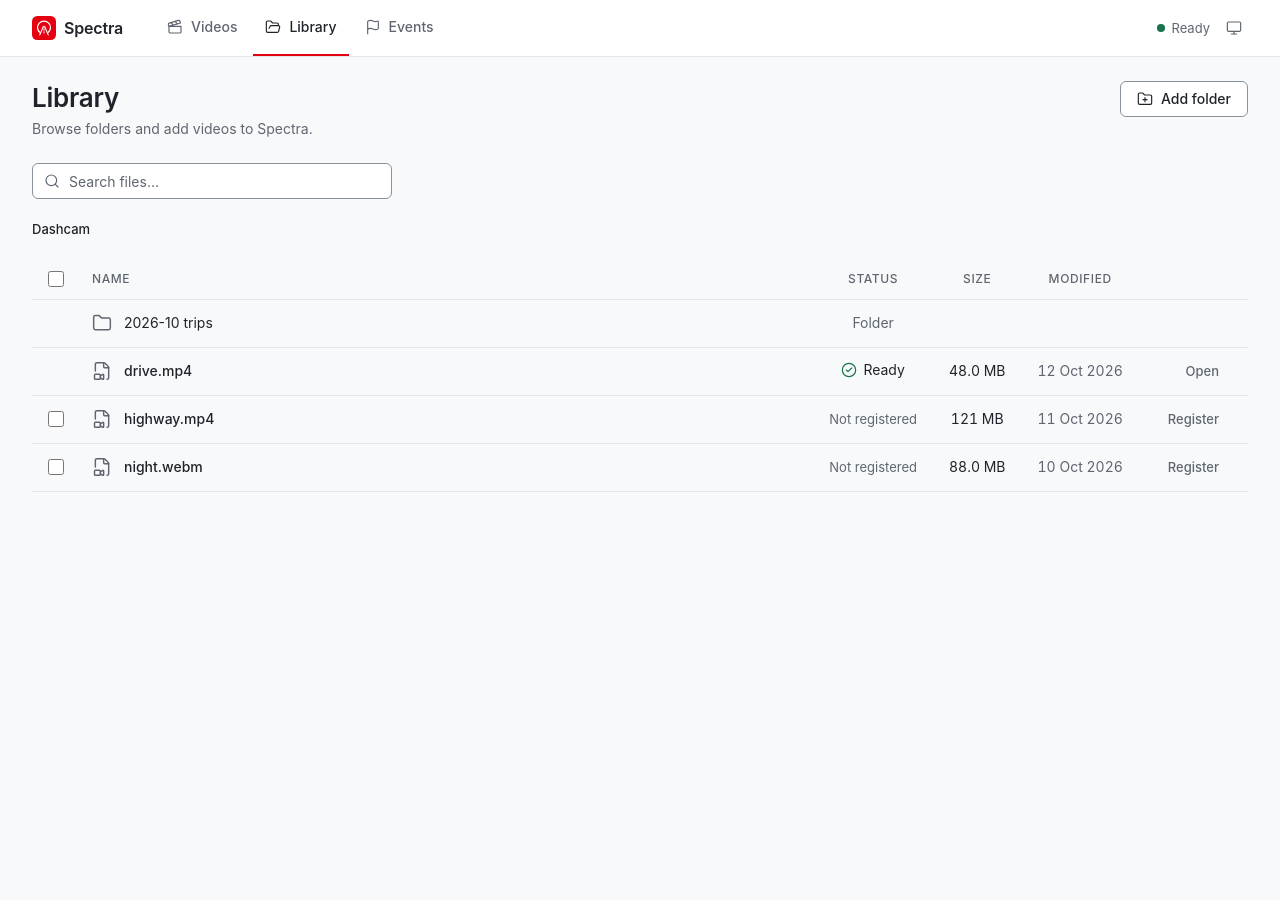
Scenario: library browsing › reports videos that could not be registered
The width and height of the screenshot is (1280, 900).
Click the button with aria-label "Register night.webm" at coordinates (1193, 467), box [1155,453,1232,481]
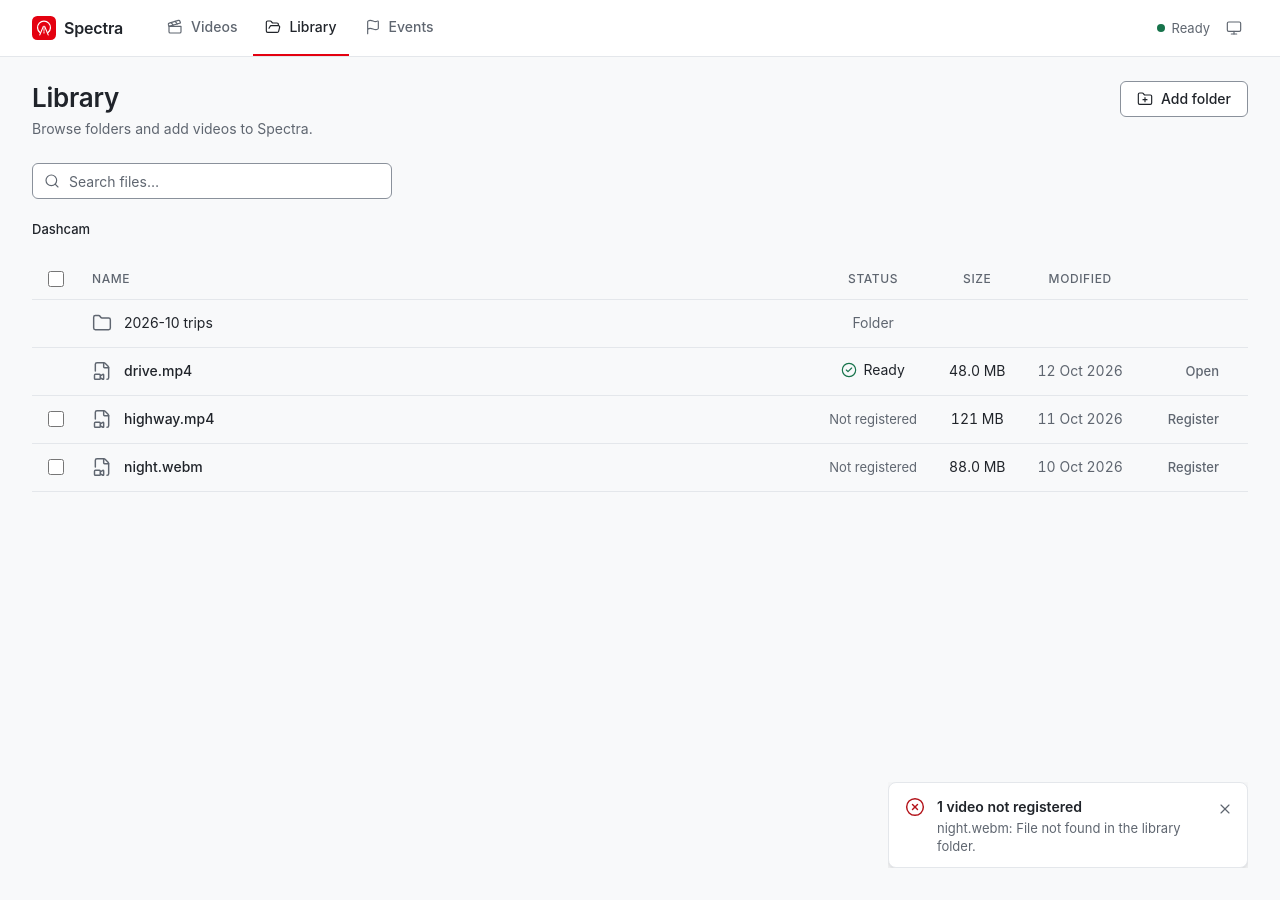
Expected: the message shows "1 video not registered", [937,798,1082,815]
Expected: the message shows "night.webm: File not found in the library folder.", [937,820,1180,854]
